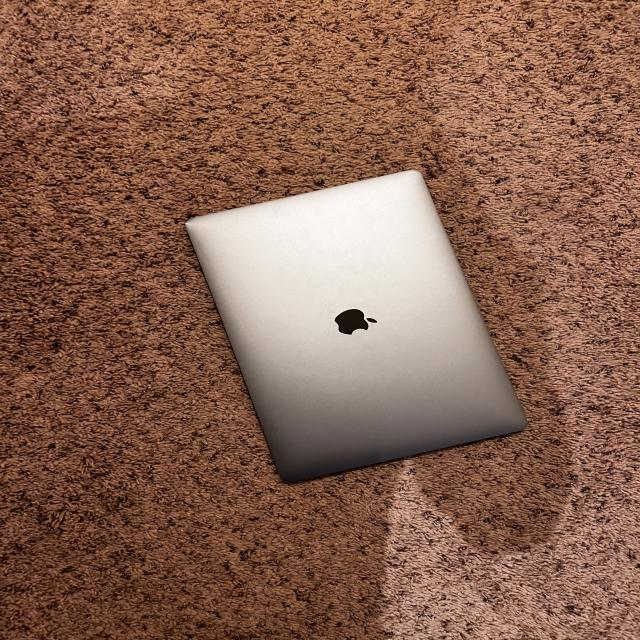laptop: (183, 168, 528, 483)
